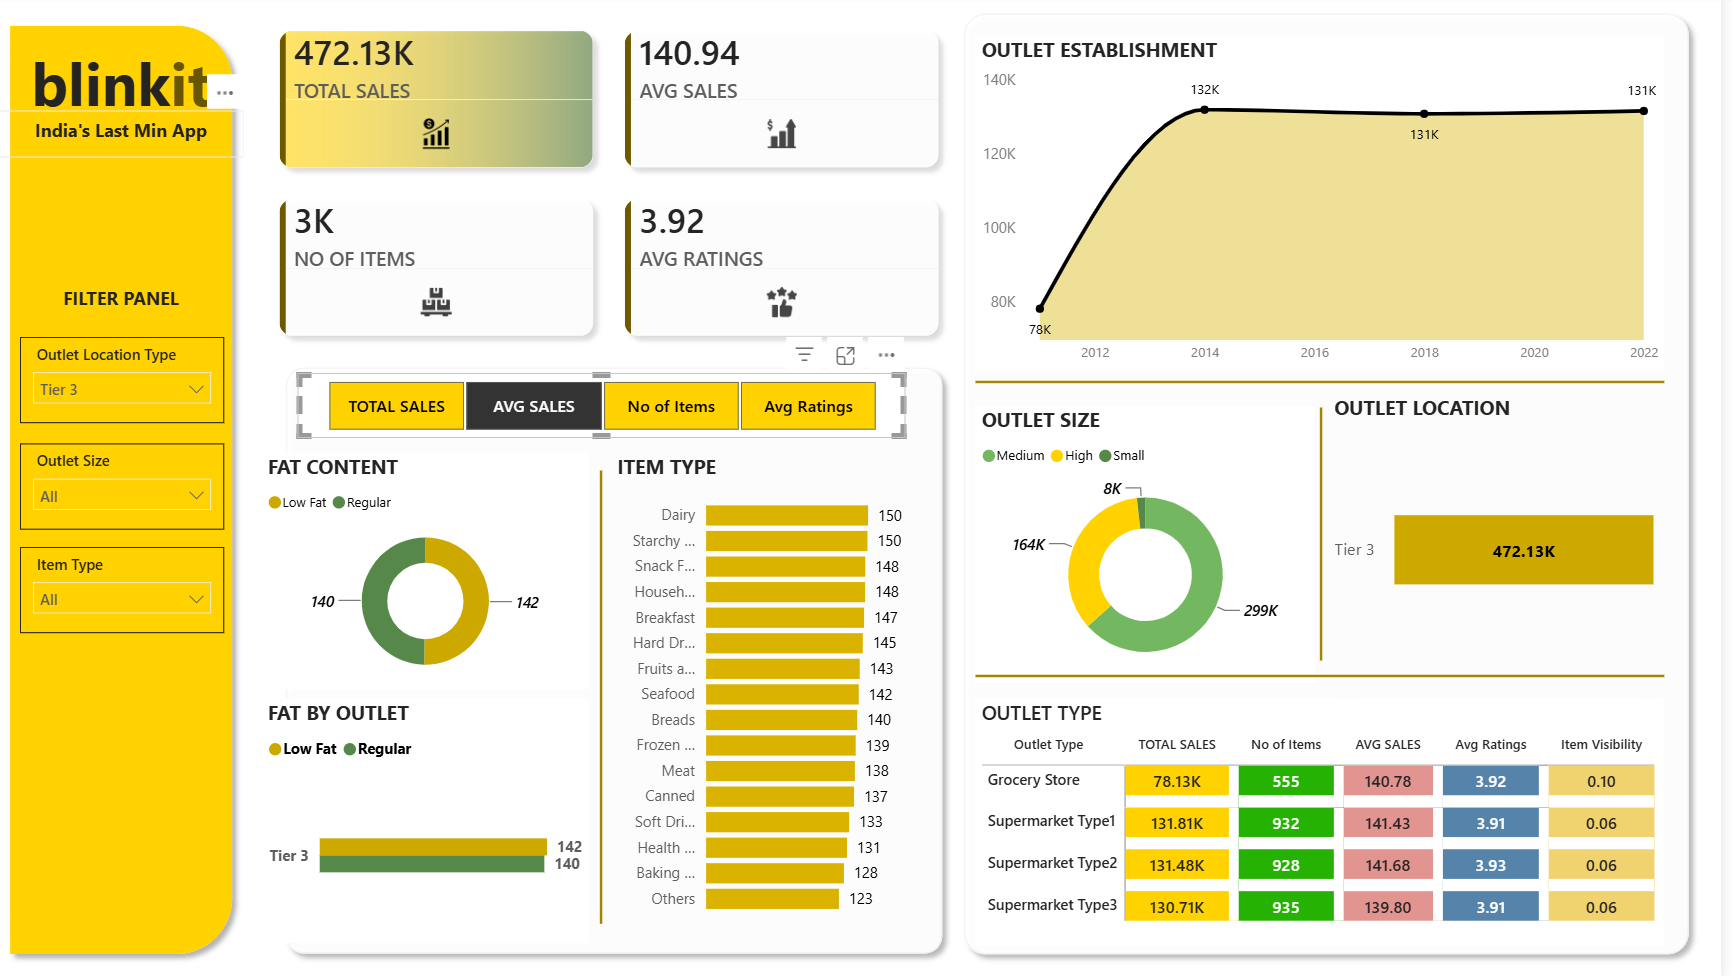

The dashboard page shown, as its layout file describes it:
{"tool":"powerbi","page":{"name":"Page 1","canvas":[1400,800],"ordinal":0},"visuals":[{"type":"shape","box":[0,15.7,198.6,772.9],"z":0},{"type":"textbox","box":[10,32.9,178.6,108.6],"z":1000},{"type":"textbox","box":[0,94.3,198.6,37.1],"z":2000},{"type":"cardVisual","fields":{"Data":["BlinkIT Grocery Data.TOTAL SALES","BlinkIT Grocery Data.AVG SALES","BlinkIT Grocery Data.No of Items","BlinkIT Grocery Data.Avg Ratings"]},"box":[198.6,0,595.7,307.1],"z":3000},{"type":"shape","box":[224.3,294.3,551.4,494.3],"z":4000},{"type":"donutChart","title":"FAT CONTENT","fields":{"Y":["BlinkIT Grocery Data.No of Items"],"Category":["BlinkIT Grocery Data.Item Fat Content"]},"box":[212.9,371.4,265.7,192.9],"z":5000},{"type":"slicer","fields":{"Values":["Metrics.Metrics"]},"box":[242.9,307.1,494.3,52.9],"z":6000},{"type":"clusteredBarChart","title":"FAT BY OUTLET","fields":{"Y":["BlinkIT Grocery Data.No of Items"],"Category":["BlinkIT Grocery Data.Outlet Location Type"],"Series":["BlinkIT Grocery Data.Item Fat Content"]},"box":[212.9,571.4,265.7,198.6],"z":7000},{"type":"shape","box":[478.6,387.1,22.9,368.6],"z":8000},{"type":"barChart","title":"ITEM TYPE","fields":{"Y":["BlinkIT Grocery Data.No of Items"],"Category":["BlinkIT Grocery Data.Item Type"]},"box":[497.1,371.4,257.1,384.3],"z":9000},{"type":"shape","box":[775.7,5.7,607.1,782.9],"z":10000},{"type":"lineChart","title":"OUTLET ESTABLISHMENT","fields":{"Category":["BlinkIT Grocery Data.Outlet Establishment Year"],"Y":["BlinkIT Grocery Data.TOTAL SALES"]},"box":[794.3,32.9,560,274.3],"z":11000},{"type":"shape","box":[794.3,294.3,560,41.4],"z":12000},{"type":"donutChart","title":"OUTLET SIZE","fields":{"Y":["BlinkIT Grocery Data.TOTAL SALES"],"Category":["BlinkIT Grocery Data.Outlet Size"]},"box":[794.3,334.3,275.7,225.7],"z":13000},{"type":"shape","box":[1062.9,335.7,22.9,205.7],"z":14000},{"type":"funnel","title":"OUTLET LOCATION","fields":{"Y":["Sum(BlinkIT Grocery Data.Sales)"],"Category":["BlinkIT Grocery Data.Outlet Location Type"]},"box":[1080,324.3,274.3,230],"z":15000},{"type":"shape","box":[794.3,532.9,560,41.4],"z":16000},{"type":"pivotTable","title":"OUTLET TYPE","fields":{"Rows":["BlinkIT Grocery Data.Outlet Type"],"Values":["BlinkIT Grocery Data.TOTAL SALES","BlinkIT Grocery Data.No of Items","BlinkIT Grocery Data.AVG SALES","BlinkIT Grocery Data.Avg Ratings","Avg(BlinkIT Grocery Data.Item Visibility)"]},"box":[794.3,571.4,560,201.4],"z":17000},{"type":"slicer","fields":{"Values":["BlinkIT Grocery Data.Outlet Location Type"]},"box":[17.1,278.6,165.7,70],"z":18000},{"type":"slicer","fields":{"Values":["BlinkIT Grocery Data.Outlet Size"]},"box":[17.1,364.3,165.7,70],"z":19000},{"type":"slicer","fields":{"Values":["BlinkIT Grocery Data.Item Type"]},"box":[17.1,448.6,165.7,70],"z":20000},{"type":"textbox","box":[0,230,198.6,48.6],"z":21000}]}

Visuals, with their boxes in screenshot pixels (x1, y1, x2, y2), scaled from the page's 1400x800 canvas onto the 1732x976 screenshot:
shape: box(0, 19, 246, 962)
textbox: box(12, 40, 233, 173)
textbox: box(0, 115, 246, 160)
cardVisual - BlinkIT Grocery Data.TOTAL SALES x BlinkIT Grocery Data.AVG SALES: box(246, 0, 983, 375)
shape: box(277, 359, 960, 962)
"FAT CONTENT" donutChart: box(263, 453, 592, 688)
slicer - Metrics.Metrics: box(301, 375, 912, 439)
"FAT BY OUTLET" clusteredBarChart: box(263, 697, 592, 939)
shape: box(592, 472, 620, 922)
"ITEM TYPE" barChart: box(615, 453, 933, 922)
shape: box(960, 7, 1711, 962)
"OUTLET ESTABLISHMENT" lineChart: box(983, 40, 1675, 375)
shape: box(983, 359, 1675, 410)
"OUTLET SIZE" donutChart: box(983, 408, 1324, 683)
shape: box(1315, 410, 1343, 661)
"OUTLET LOCATION" funnel: box(1336, 396, 1675, 676)
shape: box(983, 650, 1675, 701)
"OUTLET TYPE" pivotTable: box(983, 697, 1675, 943)
slicer - BlinkIT Grocery Data.Outlet Location Type: box(21, 340, 226, 425)
slicer - BlinkIT Grocery Data.Outlet Size: box(21, 444, 226, 530)
slicer - BlinkIT Grocery Data.Item Type: box(21, 547, 226, 633)
textbox: box(0, 281, 246, 340)
